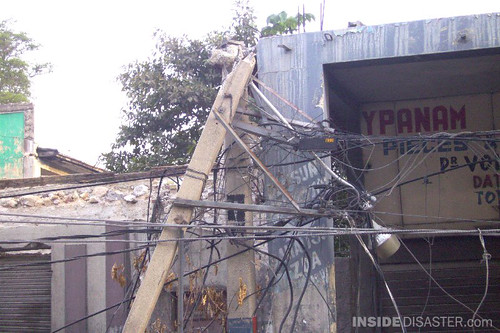power pole: (107, 36, 328, 331)
sign: (360, 106, 500, 224)
